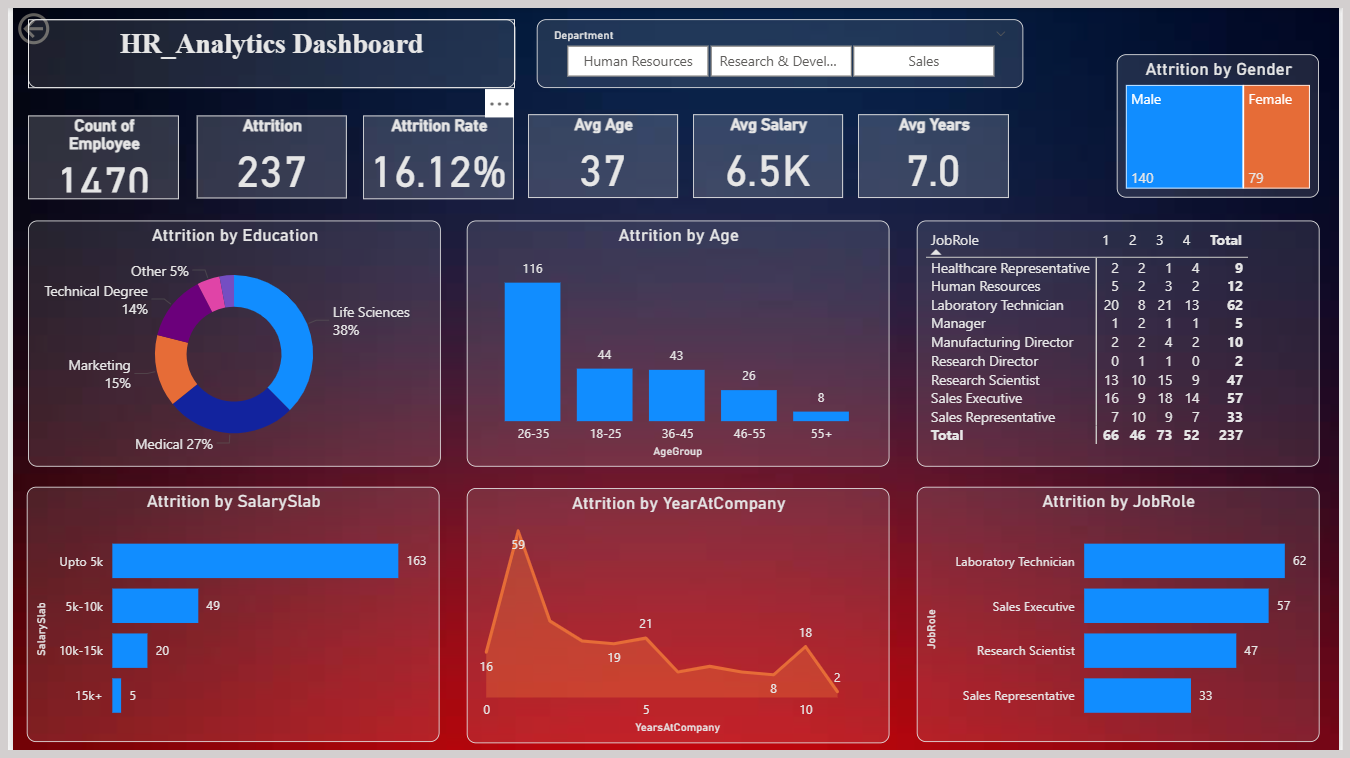

This screenshot's page, from the dashboard's own definition file:
{"tool":"powerbi","page":{"name":"Page 1","canvas":[1280,720],"ordinal":0},"visuals":[{"type":"card","title":"Count of Employee","fields":{"Values":["CountNonNull(HR_Analytics.EmpID)"]},"box":[14.5,103.8,146,80.8],"z":0},{"type":"card","title":"Attrition","fields":{"Values":["Sum(HR_Analytics.AttritionCount)"]},"box":[177.3,103.8,144.8,79.6],"z":1000},{"type":"card","title":"Attrition Rate","fields":{"Values":["HR_Analytics.Attritionrate"]},"box":[337.8,103.8,146,80.8],"z":2000},{"type":"card","title":"Avg Age","fields":{"Values":["Avg(HR_Analytics.Age)"]},"box":[497.1,102.5,144.8,80.8],"z":3000},{"type":"actionButton","box":[0,0,100,40],"z":4000},{"type":"card","title":"Avg Salary","fields":{"Values":["Avg(HR_Analytics.MonthlyIncome)"]},"box":[656.3,102.5,144.8,80.8],"z":5000},{"type":"card","title":"Avg Years","fields":{"Values":["Avg(HR_Analytics.YearsAtCompany)"]},"box":[815.6,102.5,146,80.8],"z":6000},{"type":"donutChart","title":"Attrition by Education","fields":{"Category":["HR_Analytics.EducationField"],"Y":["Sum(HR_Analytics.AttritionCount)"]},"box":[14.5,205.1,398.1,237.7],"z":7000},{"type":"columnChart","title":"Attrition by Age","fields":{"Y":["Sum(HR_Analytics.AttritionCount)"],"Category":["HR_Analytics.AgeGroup"]},"box":[437.9,205.1,407.8,237.7],"z":8000},{"type":"pivotTable","fields":{"Rows":["HR_Analytics.JobRole"],"Columns":["HR_Analytics.JobSatisfaction"],"Values":["Sum(HR_Analytics.AttritionCount)"]},"box":[872.3,205.1,388.5,237.7],"z":9000},{"type":"barChart","title":"Attrition by SalarySlab","fields":{"Category":["HR_Analytics.SalarySlab"],"Y":["Sum(HR_Analytics.AttritionCount)"]},"box":[13.3,462.1,398.1,246.1],"z":10000},{"type":"barChart","title":"Attrition by JobRole","fields":{"Category":["HR_Analytics.JobRole"],"Y":["Sum(HR_Analytics.AttritionCount)"]},"box":[872.3,462.1,388.5,246.1],"z":11000},{"type":"areaChart","title":"Attrition by YearAtCompany","fields":{"Category":["HR_Analytics.YearsAtCompany"],"Y":["Sum(HR_Analytics.AttritionCount)"]},"box":[437.9,463.3,407.8,246.1],"z":12000},{"type":"treemap","title":"Attrition by Gender","fields":{"Values":["Sum(HR_Analytics.AttritionCount)"],"Group":["HR_Analytics.Gender"]},"box":[1065.3,44.6,195.4,138.7],"z":13000},{"type":"slicer","fields":{"Values":["HR_Analytics.Department"]},"box":[505.5,10.9,469.3,66.4],"z":13001},{"type":"textbox","box":[14.5,10.9,470.5,66.4],"z":13002}]}

Visuals, with their boxes in screenshot pixels (x1, y1, x2, y2), scaled from the page's 1280x720 canvas onto the 1350x758 screenshot:
"Count of Employee" card: BBox(15, 109, 169, 194)
"Attrition" card: BBox(187, 109, 340, 193)
"Attrition Rate" card: BBox(356, 109, 510, 194)
"Avg Age" card: BBox(524, 108, 677, 193)
actionButton: BBox(0, 0, 105, 42)
"Avg Salary" card: BBox(692, 108, 845, 193)
"Avg Years" card: BBox(860, 108, 1014, 193)
"Attrition by Education" donutChart: BBox(15, 216, 435, 466)
"Attrition by Age" columnChart: BBox(462, 216, 892, 466)
pivotTable - HR_Analytics.JobRole x HR_Analytics.JobSatisfaction: BBox(920, 216, 1330, 466)
"Attrition by SalarySlab" barChart: BBox(14, 486, 434, 746)
"Attrition by JobRole" barChart: BBox(920, 486, 1330, 746)
"Attrition by YearAtCompany" areaChart: BBox(462, 488, 892, 747)
"Attrition by Gender" treemap: BBox(1124, 47, 1330, 193)
slicer - HR_Analytics.Department: BBox(533, 11, 1028, 81)
textbox: BBox(15, 11, 512, 81)
